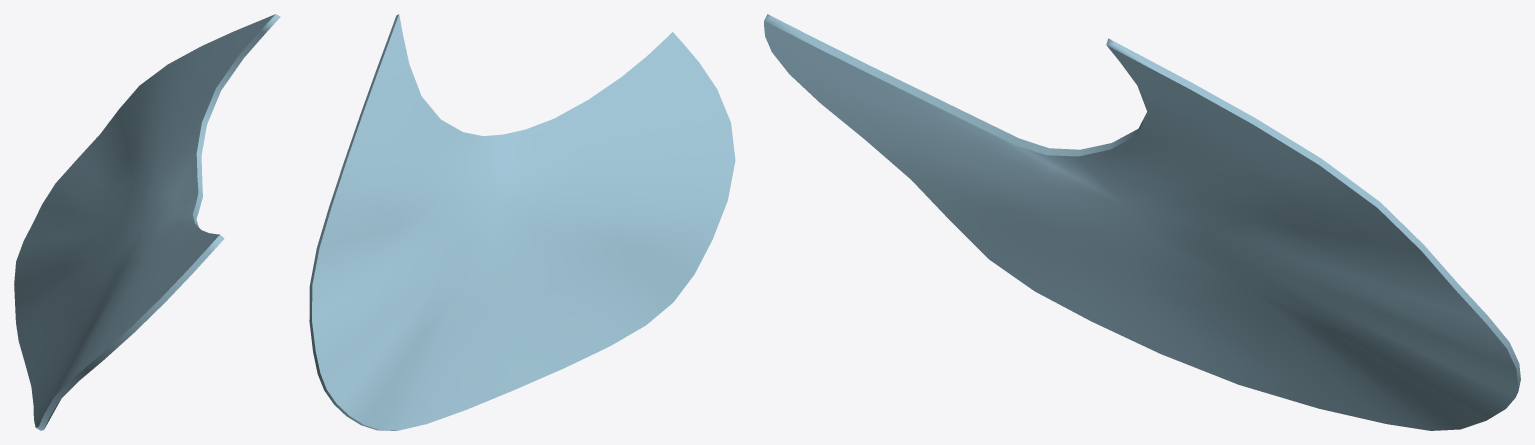
The model's file is articulacoes-obturator-membrane-l.glb.
3 views of the same model, side by side, from view 1: azimuth 30°, elevation 25°; view 2: azimuth 150°, elevation 25°; view 3: azimuth 270°, elevation 25° (orthographic). The views are drawn at different scales.
Visible parts, largest first — view 1: Obturator membrane.l; view 2: Obturator membrane.l; view 3: Obturator membrane.l.
Part boxes in pixels (x1,y1,x2,y2): Obturator membrane.l: [14, 14, 280, 430]; Obturator membrane.l: [309, 14, 735, 430]; Obturator membrane.l: [764, 14, 1520, 430].
Size of the model in its own units: 0.028 by 0.0332 by 0.0483.
